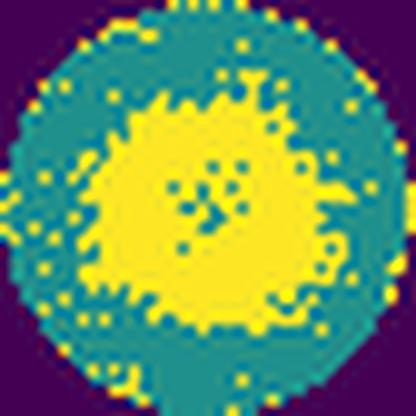Center: (77, 93, 335, 337)
